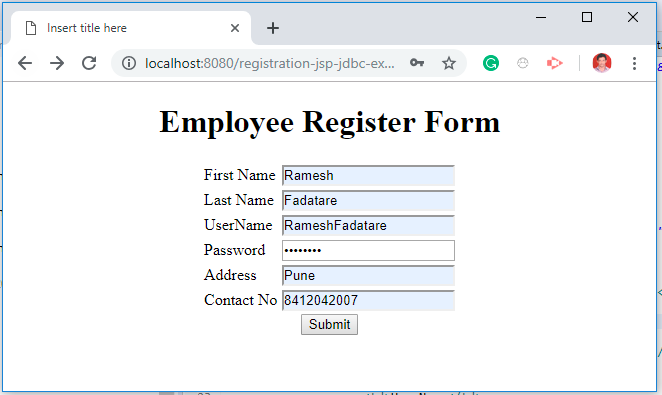button: (297, 311, 362, 334), (77, 52, 104, 79), (43, 53, 71, 75), (12, 52, 38, 73)
textbox: (279, 261, 462, 290)
